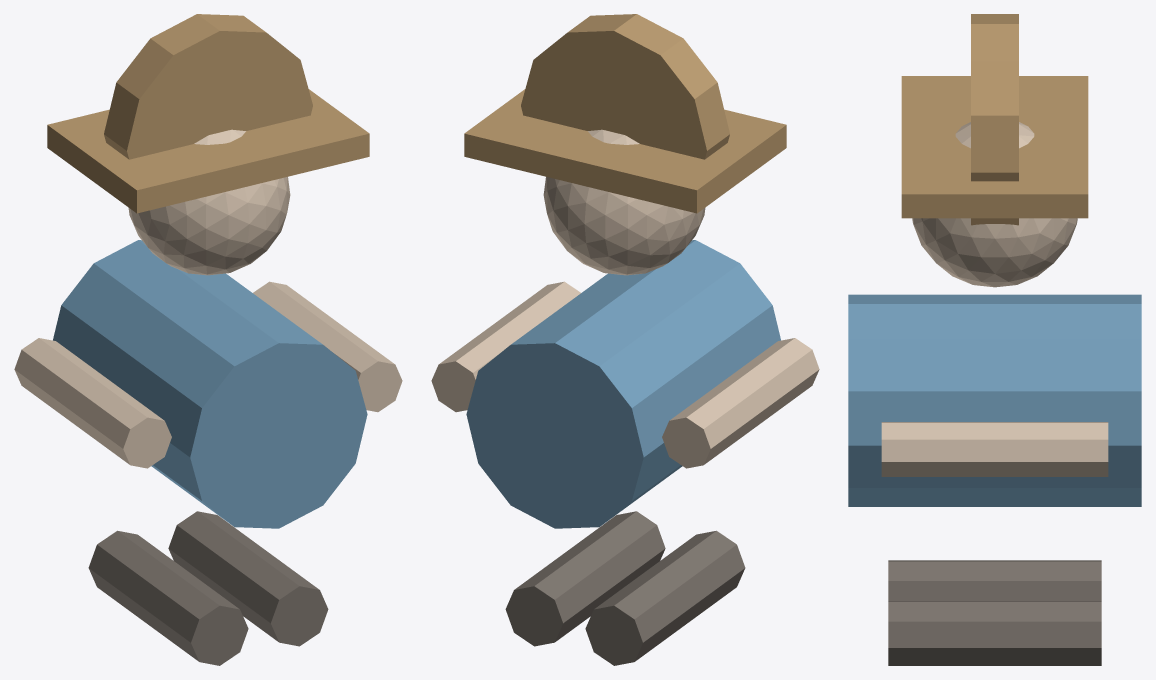
File: farmer.glb
The picture shows the model from 3 angles, left to right: view 1: azimuth 30°, elevation 25°; view 2: azimuth 150°, elevation 25°; view 3: azimuth 270°, elevation 25°; orthographic projection. The views are drawn at different scales.
Parts seen in each view (by area): view 1: farmer_1, farmer_6, farmer_7, farmer_4, farmer_5, farmer_0, farmer_2, farmer_3; view 2: farmer_1, farmer_6, farmer_7, farmer_4, farmer_5, farmer_0, farmer_2, farmer_3; view 3: farmer_1, farmer_7, farmer_5, farmer_3, farmer_0, farmer_4, farmer_6.
Boxes of the visible parts, x1,y1,x2,y2 form: farmer_1: [53, 240, 367, 528]; farmer_6: [104, 14, 312, 159]; farmer_7: [47, 89, 369, 213]; farmer_4: [88, 530, 248, 665]; farmer_5: [168, 511, 328, 646]; farmer_0: [128, 129, 290, 275]; farmer_2: [14, 338, 171, 468]; farmer_3: [253, 281, 402, 412]; farmer_1: [466, 240, 780, 528]; farmer_6: [521, 14, 729, 159]; farmer_7: [464, 89, 786, 213]; farmer_4: [585, 530, 745, 665]; farmer_5: [505, 511, 665, 646]; farmer_0: [543, 129, 705, 275]; farmer_2: [662, 338, 819, 468]; farmer_3: [431, 281, 580, 412]; farmer_1: [848, 294, 1141, 506]; farmer_7: [901, 76, 1088, 218]; farmer_5: [888, 601, 1101, 665]; farmer_3: [881, 422, 1108, 476]; farmer_0: [912, 122, 1077, 287]; farmer_4: [888, 560, 1101, 600]; farmer_6: [971, 14, 1018, 225].
Size of the model in its own units: 1.26 by 2.57 by 1.1.
